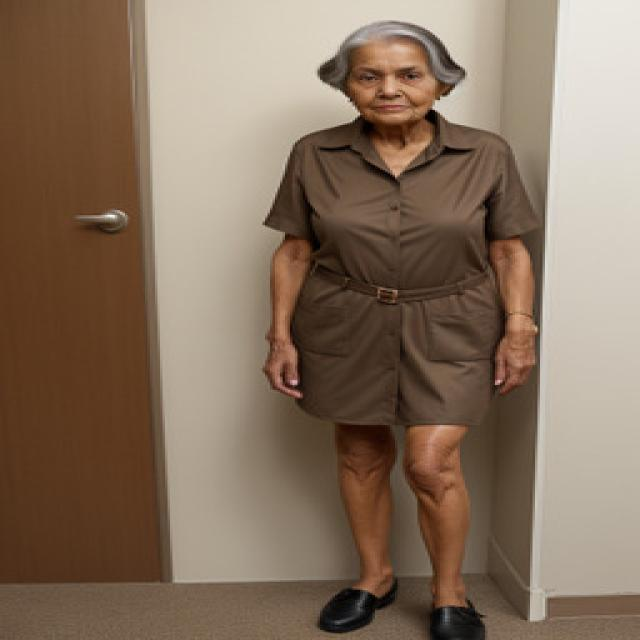Ai human 2: (237, 15, 545, 640)
